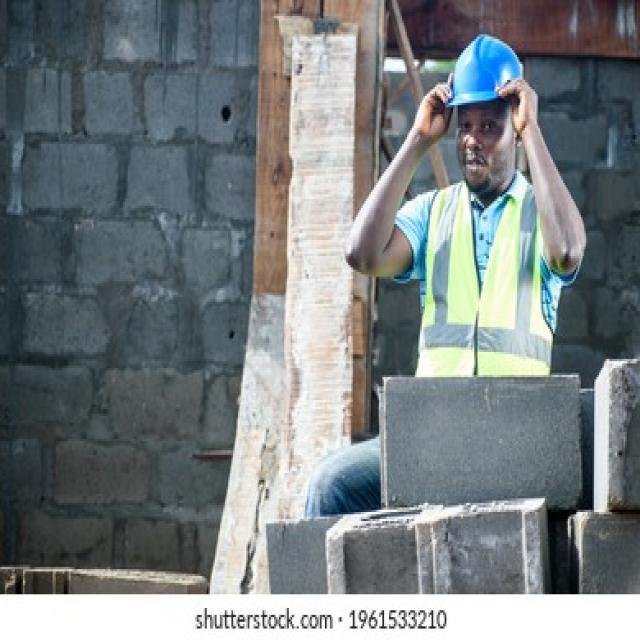reflective_jacket: (410, 171, 559, 383)
safety_helmet: (444, 29, 528, 114)
